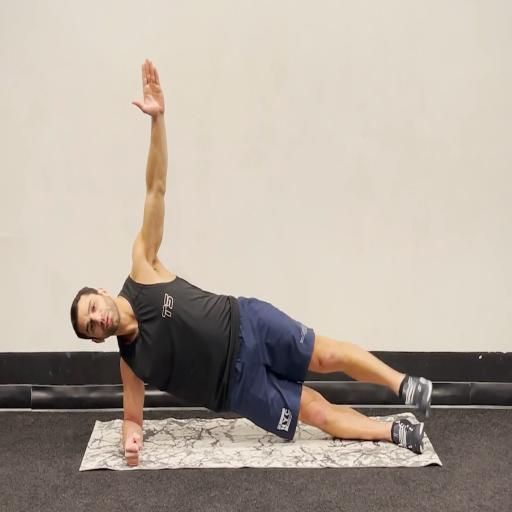Normal_Dips: (13, 7, 512, 504)
